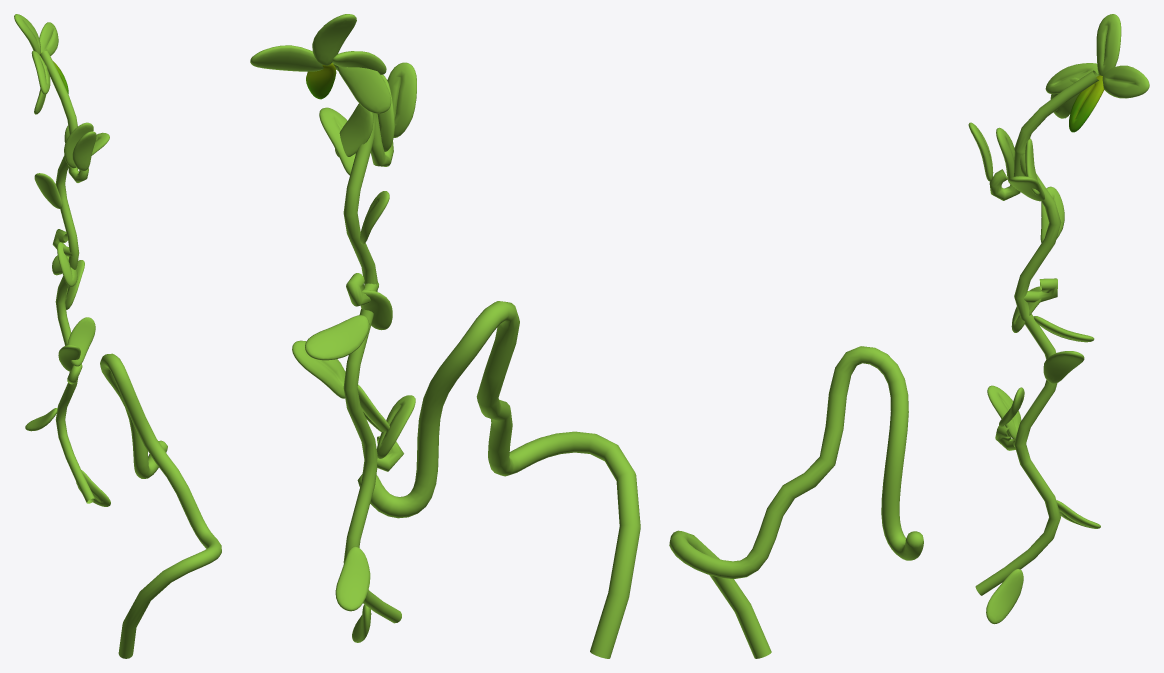
File: Farmhouse_ROOM_ivy03_v01.glb
The picture shows the model from 3 angles, left to right: view 1: azimuth 30°, elevation 25°; view 2: azimuth 150°, elevation 25°; view 3: azimuth 270°, elevation 25°; orthographic projection. The views are drawn at different scales.
Visible parts, largest first — view 1: Farmhouse_ROOM_ivy03_v01; view 2: Farmhouse_ROOM_ivy03_v01; view 3: Farmhouse_ROOM_ivy03_v01.
Boxes of the visible parts, x1=… form: Farmhouse_ROOM_ivy03_v01: x1=14, y1=14, x2=221, y2=658; Farmhouse_ROOM_ivy03_v01: x1=250, y1=14, x2=640, y2=658; Farmhouse_ROOM_ivy03_v01: x1=669, y1=14, x2=1149, y2=658.
Bounding box in the file's own units: 0.4395 × 1.98 × 1.3.
Materials: 2 (1 with a texture image).
